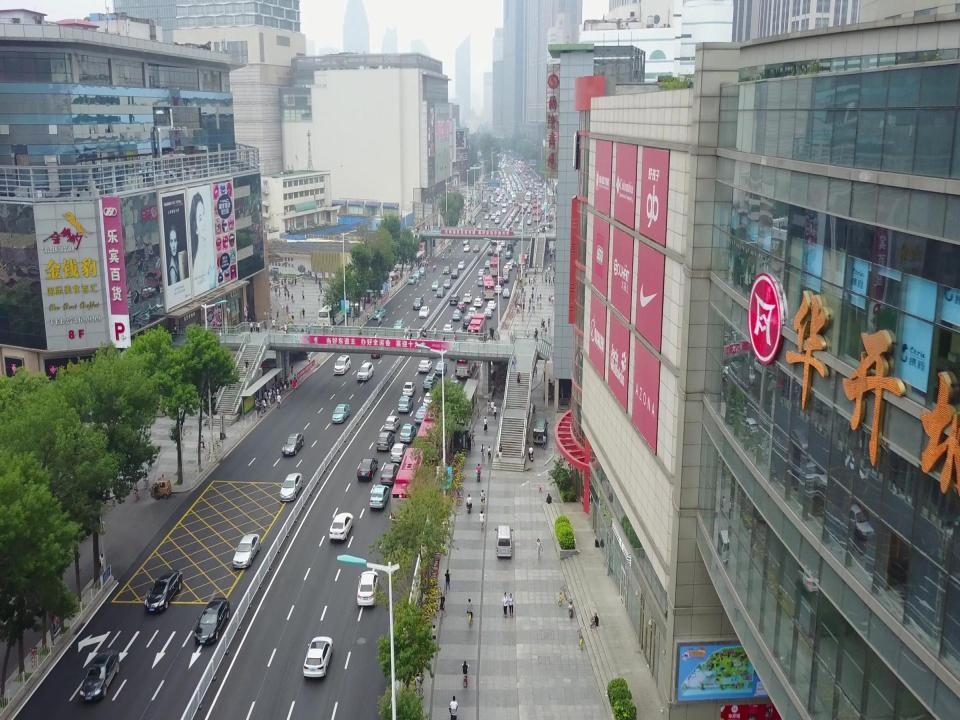bus: (389, 448, 427, 525), (416, 401, 448, 457), (456, 336, 480, 377), (318, 301, 346, 326), (346, 287, 378, 305), (468, 313, 486, 338), (481, 274, 495, 299), (489, 256, 500, 276), (481, 198, 489, 212), (514, 200, 522, 211), (534, 209, 542, 220), (532, 202, 538, 213)
car: (80, 649, 120, 701), (144, 569, 183, 615), (194, 597, 230, 645), (303, 636, 333, 678), (232, 533, 260, 569), (356, 570, 378, 607), (329, 512, 353, 542), (279, 473, 303, 501), (282, 433, 304, 456), (356, 457, 378, 480), (369, 485, 389, 509), (380, 462, 400, 485), (332, 403, 350, 423), (398, 423, 416, 443), (377, 431, 395, 450), (390, 443, 408, 462), (356, 362, 374, 381), (333, 355, 351, 373), (384, 415, 400, 431), (422, 374, 438, 390), (398, 397, 413, 412), (417, 359, 433, 373), (447, 379, 463, 393), (402, 381, 416, 396), (434, 361, 447, 375), (415, 407, 427, 422), (412, 295, 424, 310), (373, 308, 386, 318), (394, 320, 404, 332), (419, 306, 429, 318), (462, 316, 472, 328), (436, 287, 446, 298), (452, 309, 462, 320), (457, 301, 467, 312), (462, 293, 472, 304), (494, 276, 504, 287), (442, 323, 454, 332), (468, 306, 478, 316), (473, 297, 483, 307), (431, 281, 441, 290), (443, 279, 452, 289), (450, 295, 460, 304), (486, 300, 496, 309), (484, 307, 492, 318), (451, 269, 459, 279), (408, 275, 416, 284), (442, 266, 451, 274), (502, 288, 510, 297), (494, 285, 502, 294), (478, 268, 486, 277), (477, 277, 484, 287), (501, 273, 508, 283), (418, 267, 426, 275), (457, 262, 465, 270), (473, 245, 481, 253), (505, 262, 512, 271), (413, 271, 421, 278), (509, 258, 516, 266), (502, 270, 509, 277), (464, 244, 470, 252), (462, 238, 470, 244), (505, 252, 513, 258), (508, 238, 516, 244), (484, 260, 490, 267), (502, 266, 508, 273), (487, 249, 494, 255), (494, 250, 500, 257), (496, 245, 502, 252), (499, 241, 506, 247), (490, 213, 496, 220), (477, 222, 483, 228), (494, 218, 500, 224), (501, 208, 507, 214), (490, 195, 494, 204), (526, 220, 532, 226), (544, 198, 548, 206), (470, 219, 476, 224), (495, 211, 501, 216), (515, 217, 520, 223), (485, 223, 489, 229), (484, 214, 488, 220), (501, 202, 507, 206), (488, 211, 493, 215), (508, 199, 512, 204), (496, 197, 500, 202), (494, 201, 497, 207), (527, 209, 531, 213), (524, 202, 528, 206), (538, 196, 542, 200)
van: (494, 525, 512, 557), (150, 480, 172, 498), (534, 418, 548, 443), (507, 243, 514, 252), (524, 193, 530, 202)
